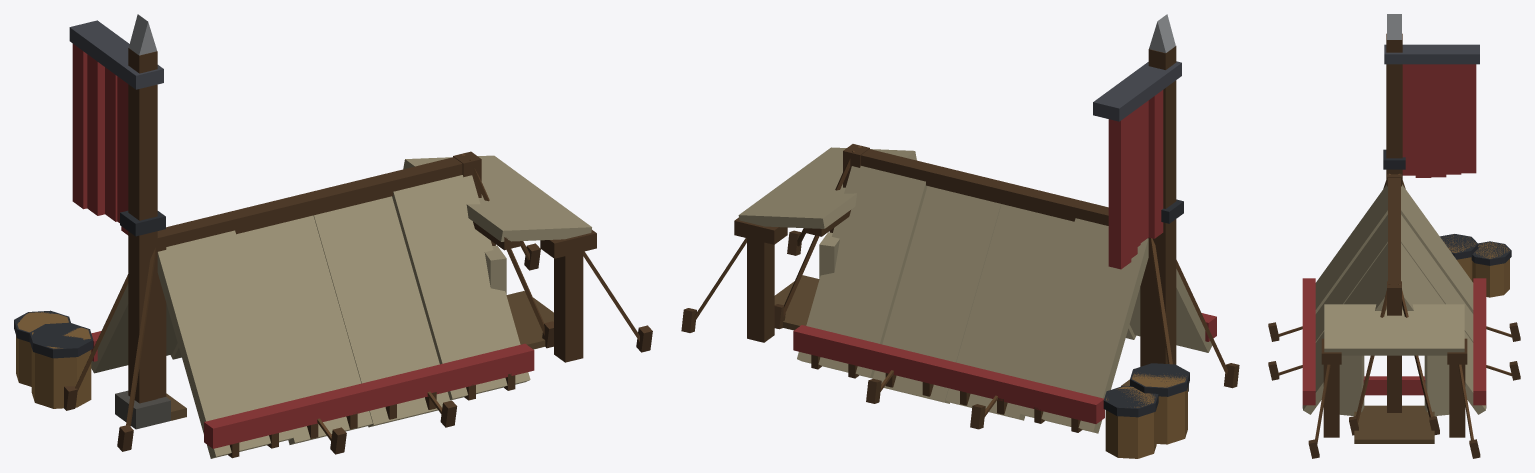
Rendered from command_tent.glb.
3 views of the same model, side by side, from view 1: azimuth 30°, elevation 25°; view 2: azimuth 150°, elevation 25°; view 3: azimuth 270°, elevation 25° (orthographic). The views are drawn at different scales.
Visible parts, largest first — view 1: canvas, timber, cloth, banner_cloth, timber_light, leather, iron_dark, iron, dirt, stone_dark, steel; view 2: canvas, timber, cloth, banner_cloth, timber_light, iron_dark, iron, leather, dirt, steel; view 3: canvas, timber, banner_cloth, cloth, dirt, iron, leather, timber_light, iron_dark, steel.
Boxes of the visible parts, x1,y1,x2,y2 form: canvas: [91, 155, 591, 458]; timber: [64, 48, 652, 458]; cloth: [91, 331, 534, 448]; banner_cloth: [72, 44, 128, 235]; timber_light: [16, 312, 91, 408]; leather: [75, 154, 639, 440]; iron_dark: [14, 210, 165, 358]; iron: [69, 20, 163, 89]; dirt: [166, 291, 553, 420]; stone_dark: [115, 390, 170, 429]; steel: [128, 14, 156, 55]; canvas: [738, 147, 1212, 433]; timber: [681, 46, 1239, 432]; cloth: [793, 313, 1216, 423]; banner_cloth: [1108, 90, 1163, 269]; timber_light: [1105, 372, 1187, 458]; iron_dark: [1103, 199, 1189, 417]; iron: [1093, 61, 1181, 121]; leather: [693, 146, 1227, 416]; dirt: [774, 275, 1129, 386]; steel: [1149, 14, 1175, 52]; canvas: [1303, 184, 1485, 415]; timber: [1268, 33, 1520, 458]; banner_cloth: [1402, 64, 1476, 177]; cloth: [1302, 278, 1486, 405]; dirt: [1354, 405, 1434, 443]; iron: [1384, 44, 1479, 64]; leather: [1278, 173, 1511, 443]; timber_light: [1443, 234, 1509, 297]; iron_dark: [1383, 149, 1511, 265]; steel: [1387, 14, 1401, 39].
Size of the model in its own units: 85.45 by 64.26 by 50.17.
